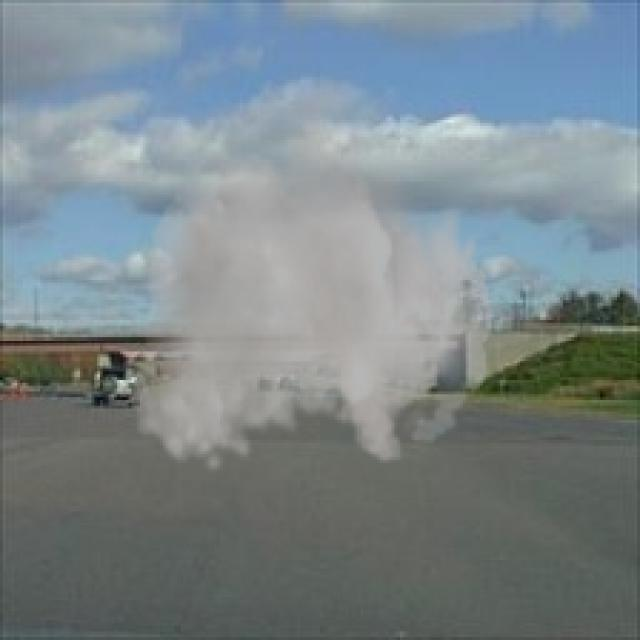Smoke: (132, 106, 492, 474)
